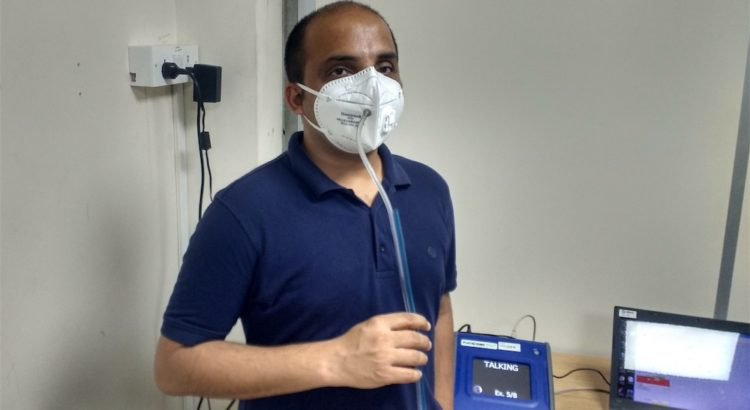mask: (269, 4, 431, 171)
